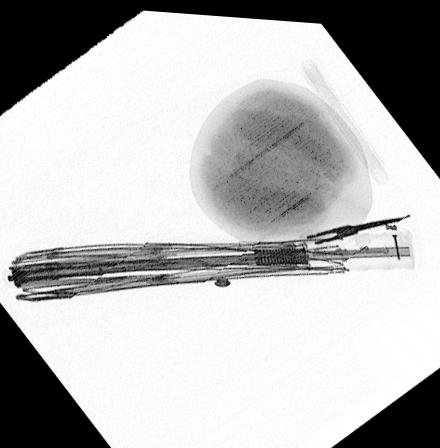Scissors: (304, 204, 415, 245)
